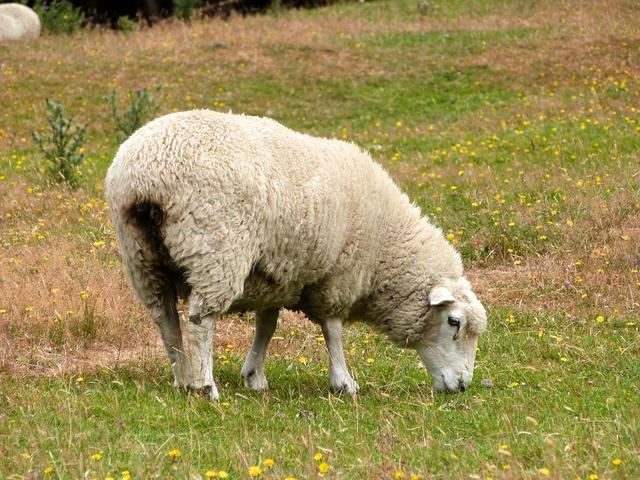sheep: (87, 72, 540, 406)
